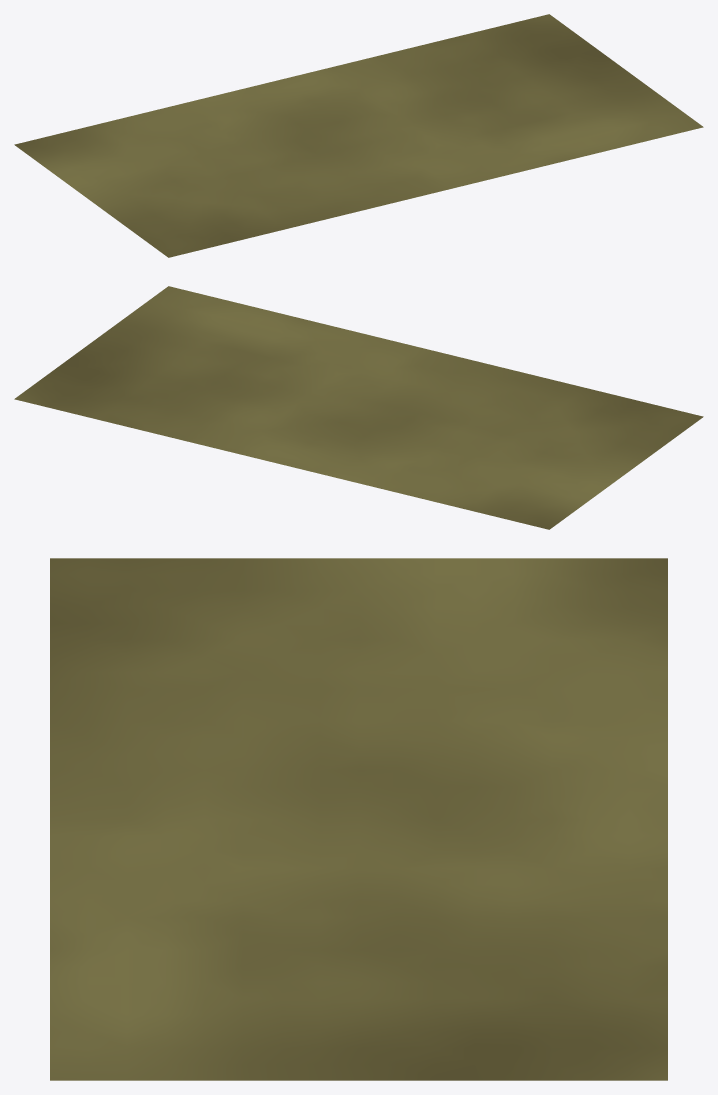
File: terrain_lod0_2_-8.obj
The picture shows the model from 3 angles, top to bottom: view 1: azimuth 30°, elevation 25°; view 2: azimuth 150°, elevation 25°; view 3: azimuth 270°, elevation 25°; orthographic projection. The views are drawn at different scales.
Parts seen in each view (by area): view 1: terrain_lod0_2_-8; view 2: terrain_lod0_2_-8; view 3: terrain_lod0_2_-8.
Part boxes in pixels (x1,y1,x2,y2): terrain_lod0_2_-8: [14, 14, 703, 257]; terrain_lod0_2_-8: [14, 286, 703, 529]; terrain_lod0_2_-8: [50, 558, 667, 1080].
Size of the model in its own units: 128 by 0 by 64.
